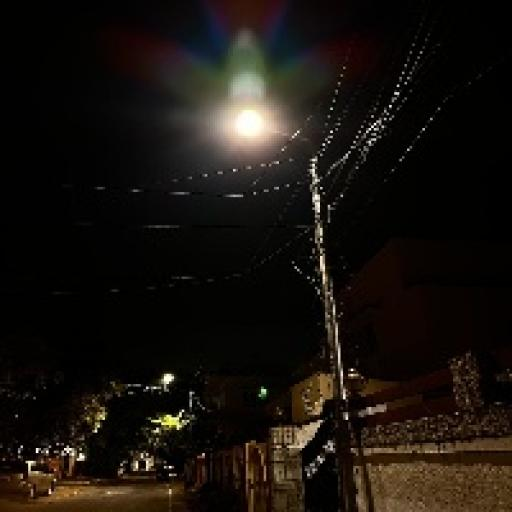Working: (209, 95, 293, 157)
